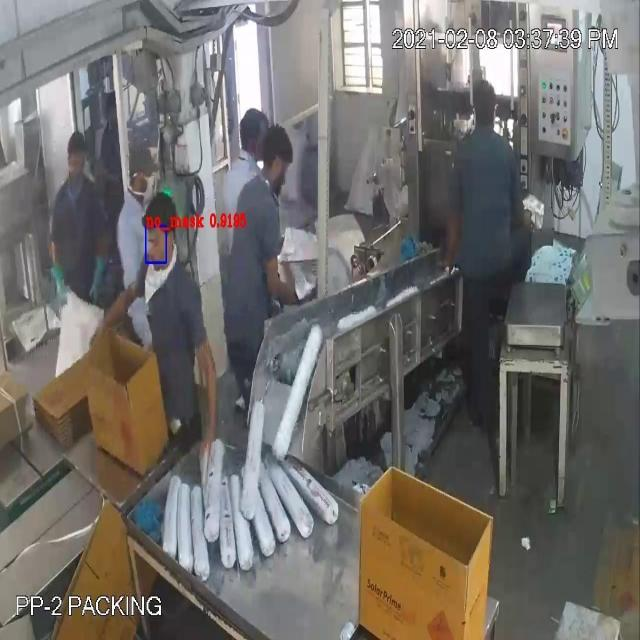No_Gloves: (19, 66, 279, 394)
